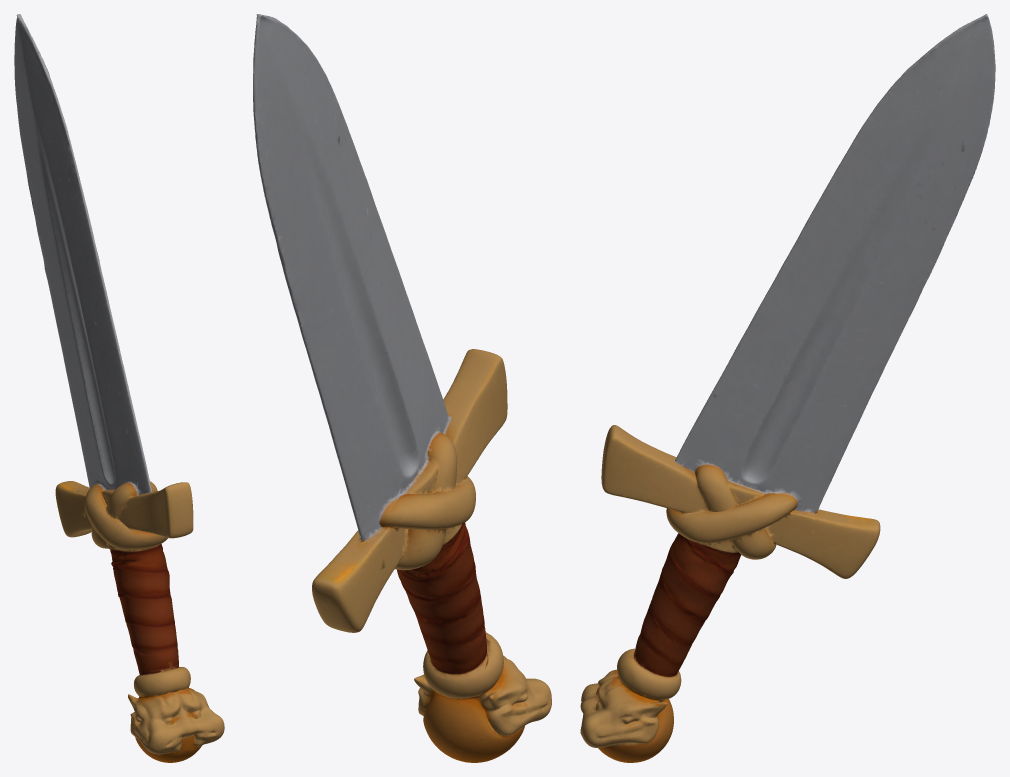
Rendered from 7. medieval sword.glb.
The picture shows the model from 3 angles, left to right: view 1: azimuth 30°, elevation 25°; view 2: azimuth 150°, elevation 25°; view 3: azimuth 270°, elevation 25°; orthographic projection. The views are drawn at different scales.
Visible parts, largest first — view 1: tripo_node_12cda83f-90a4-4ef4-b014-cd2eaa429715; view 2: tripo_node_12cda83f-90a4-4ef4-b014-cd2eaa429715; view 3: tripo_node_12cda83f-90a4-4ef4-b014-cd2eaa429715.
Part boxes in pixels (bbox=[...]): tripo_node_12cda83f-90a4-4ef4-b014-cd2eaa429715: bbox=[14, 14, 224, 762]; tripo_node_12cda83f-90a4-4ef4-b014-cd2eaa429715: bbox=[253, 14, 551, 762]; tripo_node_12cda83f-90a4-4ef4-b014-cd2eaa429715: bbox=[580, 14, 995, 762].
Size of the model in its own units: 0.1248 by 1 by 0.5055.
Materials: 1 (1 with a texture image).
